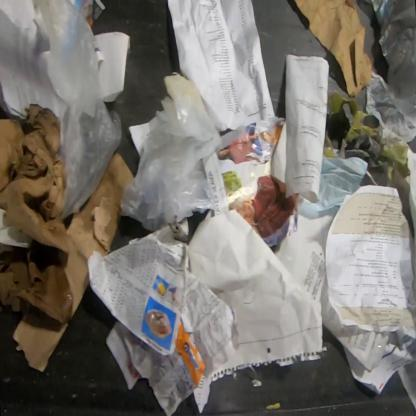cardboard: (12, 147, 135, 373), (0, 104, 69, 250)
soft_plastic: (34, 1, 122, 220), (121, 71, 222, 230), (365, 0, 415, 144)
